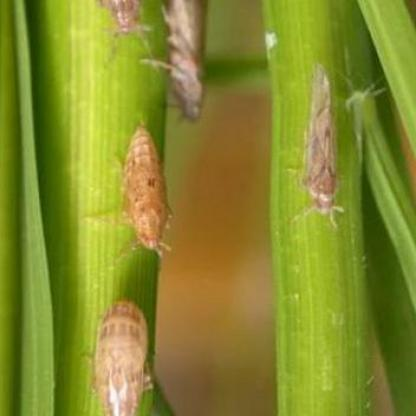brown-planthopper: (90, 296, 147, 416), (301, 61, 344, 216), (121, 127, 170, 250), (164, 0, 208, 120), (103, 0, 142, 37)
